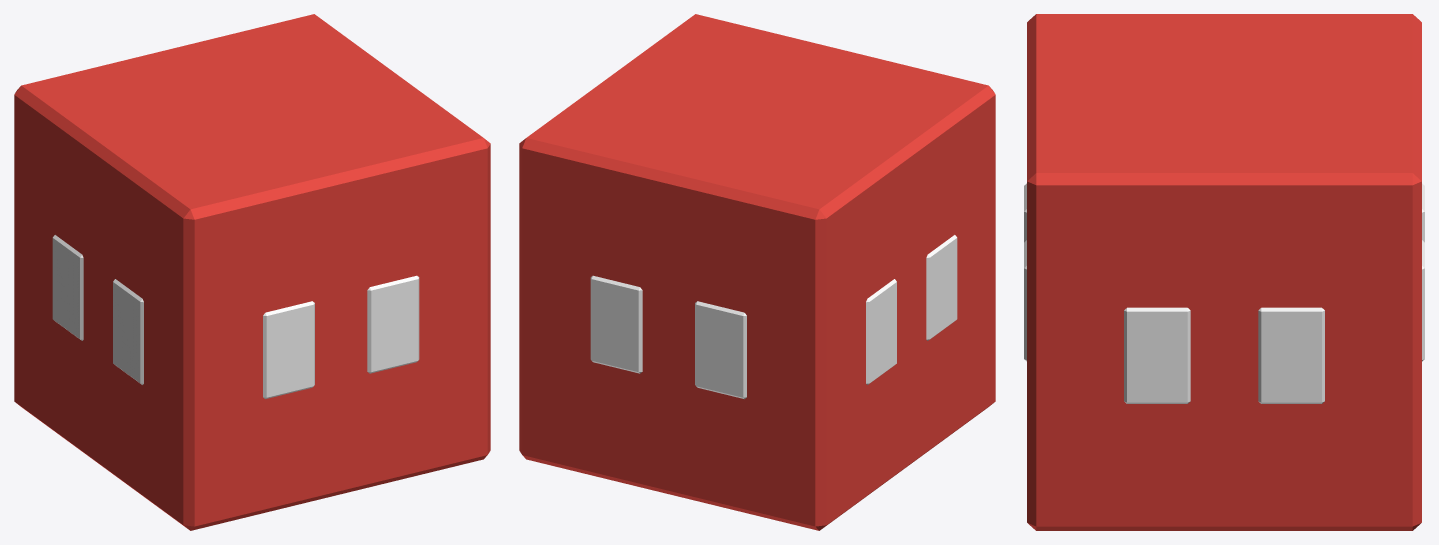
Rendered from block_red.glb.
3 views of the same model, side by side, from view 1: azimuth 30°, elevation 25°; view 2: azimuth 150°, elevation 25°; view 3: azimuth 270°, elevation 25° (orthographic). The views are drawn at different scales.
Parts seen in each view (by area): view 1: block_red; view 2: block_red; view 3: block_red.
Boxes of the visible parts, box(x1,y1,x2,y2) form: block_red: box(14, 14, 490, 530); block_red: box(519, 14, 995, 530); block_red: box(1024, 14, 1424, 530).
Bounding box in the file's own units: 0.264 × 0.26 × 0.264.
